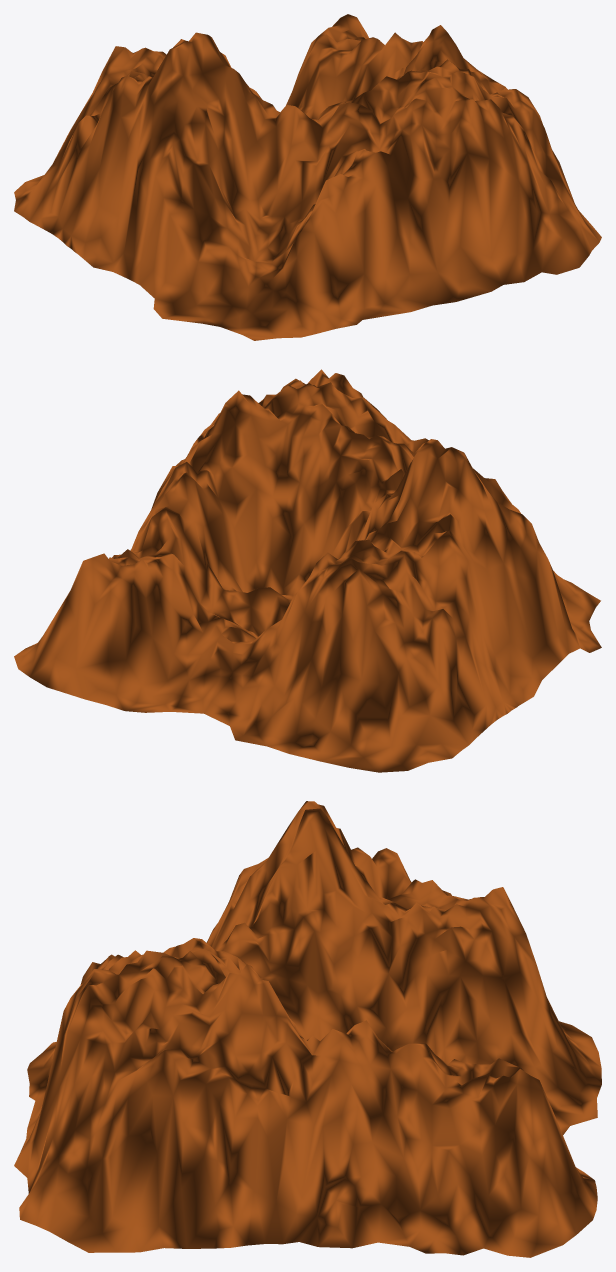
The model's file is Mounting_2.obj.
The picture shows the model from 3 angles, top to bottom: view 1: azimuth 30°, elevation 25°; view 2: azimuth 150°, elevation 25°; view 3: azimuth 270°, elevation 25°; orthographic projection. The views are drawn at different scales.
Visible parts, largest first — view 1: Mounting_2; view 2: Mounting_2; view 3: Mounting_2.
Part boxes in pixels (box(x1,y1,x2,y2)): Mounting_2: box(14, 14, 601, 340); Mounting_2: box(14, 369, 601, 772); Mounting_2: box(14, 801, 601, 1257).
Size of the model in its own units: 1974 by 979 by 1970.
